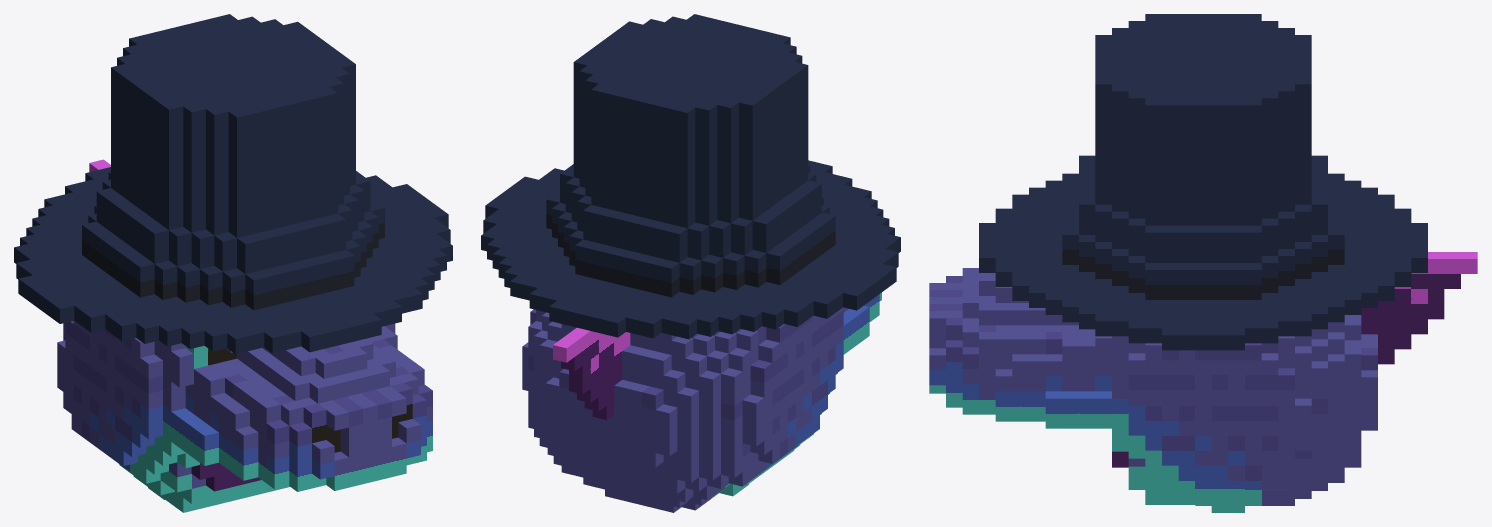
File: top hat.gltf
3 views of the same model, side by side, from view 1: azimuth 30°, elevation 25°; view 2: azimuth 150°, elevation 25°; view 3: azimuth 270°, elevation 25° (orthographic). The views are drawn at different scales.
Visible parts, largest first — view 1: 12_Zilla_Head_Top_Hat-Mesh; view 2: 12_Zilla_Head_Top_Hat-Mesh; view 3: 12_Zilla_Head_Top_Hat-Mesh.
Part boxes in pixels (x1,y1,x2,y2): 12_Zilla_Head_Top_Hat-Mesh: [14, 14, 452, 512]; 12_Zilla_Head_Top_Hat-Mesh: [481, 14, 900, 512]; 12_Zilla_Head_Top_Hat-Mesh: [929, 14, 1477, 512].
Size of the model in its own units: 27 by 28 by 33.
Materials: 1 (1 with a texture image).
